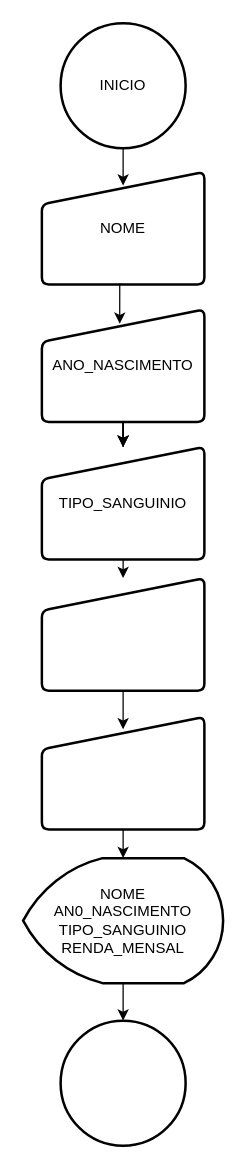
Some shapes in this 245 by 1168 pixel diagram are drawn without their labels. Each missing label, with the centre of its shape:
"FIM" goes at point 122,1082.
"LIMPA TELA" goes at point 122,772.
"RENDA_MENSAL" goes at point 122,633.
